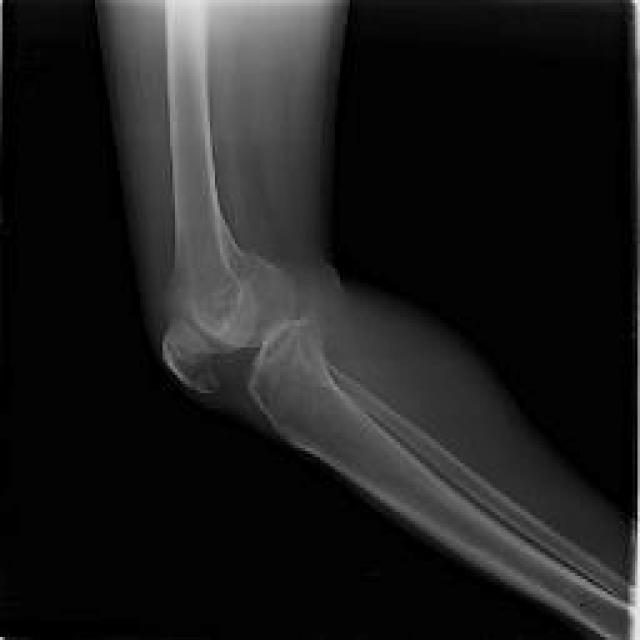normal: (251, 313, 640, 640), (156, 0, 299, 394)
